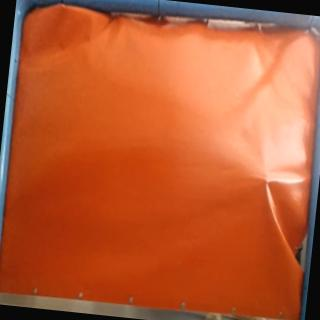Hit-hRxx: (258, 173, 276, 187)
